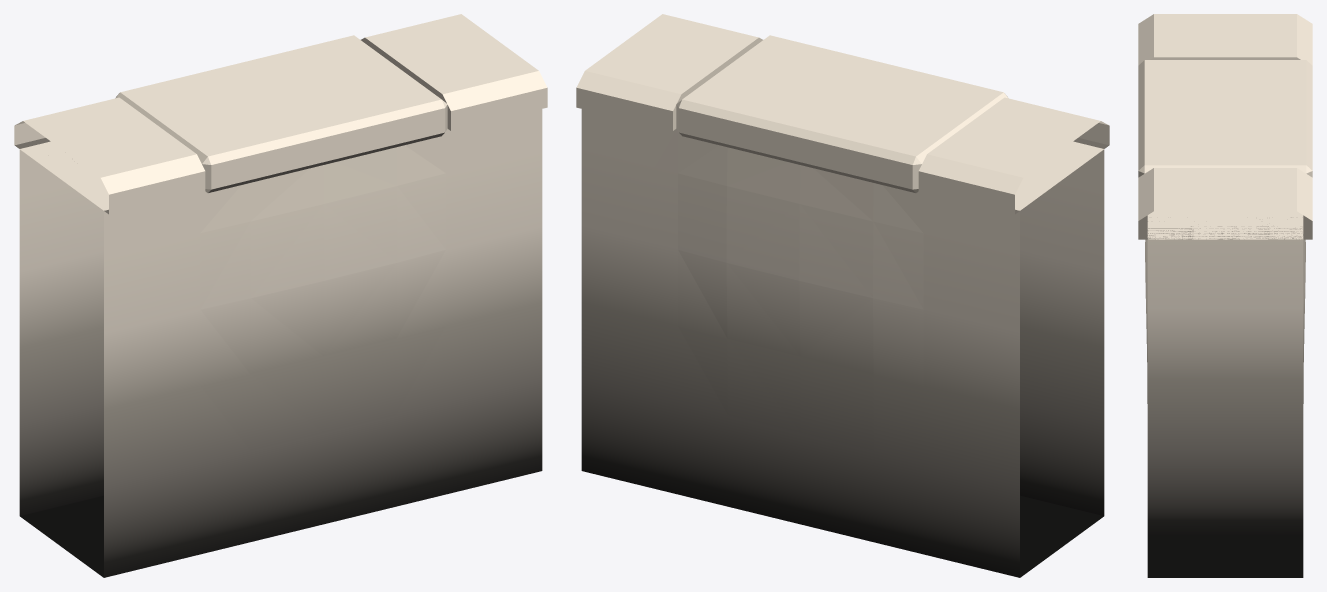
File: SM_VKI_Wall_Ashlar_Lancet_150_Cut.fbx
3 views of the same model, side by side, from view 1: azimuth 30°, elevation 25°; view 2: azimuth 150°, elevation 25°; view 3: azimuth 270°, elevation 25° (orthographic). The views are drawn at different scales.
Parts seen in each view (by area): view 1: SM_VKI_Wall_Ashlar_Lancet_150_Cut.001; view 2: SM_VKI_Wall_Ashlar_Lancet_150_Cut.001; view 3: SM_VKI_Wall_Ashlar_Lancet_150_Cut.001.
Boxes of the visible parts, x1,y1,x2,y2 form: SM_VKI_Wall_Ashlar_Lancet_150_Cut.001: [14, 14, 547, 577]; SM_VKI_Wall_Ashlar_Lancet_150_Cut.001: [576, 14, 1109, 577]; SM_VKI_Wall_Ashlar_Lancet_150_Cut.001: [1138, 14, 1312, 577].
Size of the model in its own units: 1.5 by 1.3 by 0.56.
